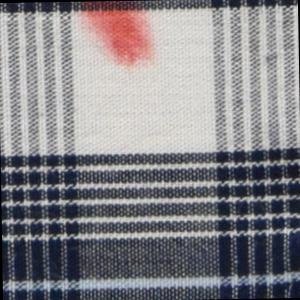Stain: (73, 1, 159, 73)
